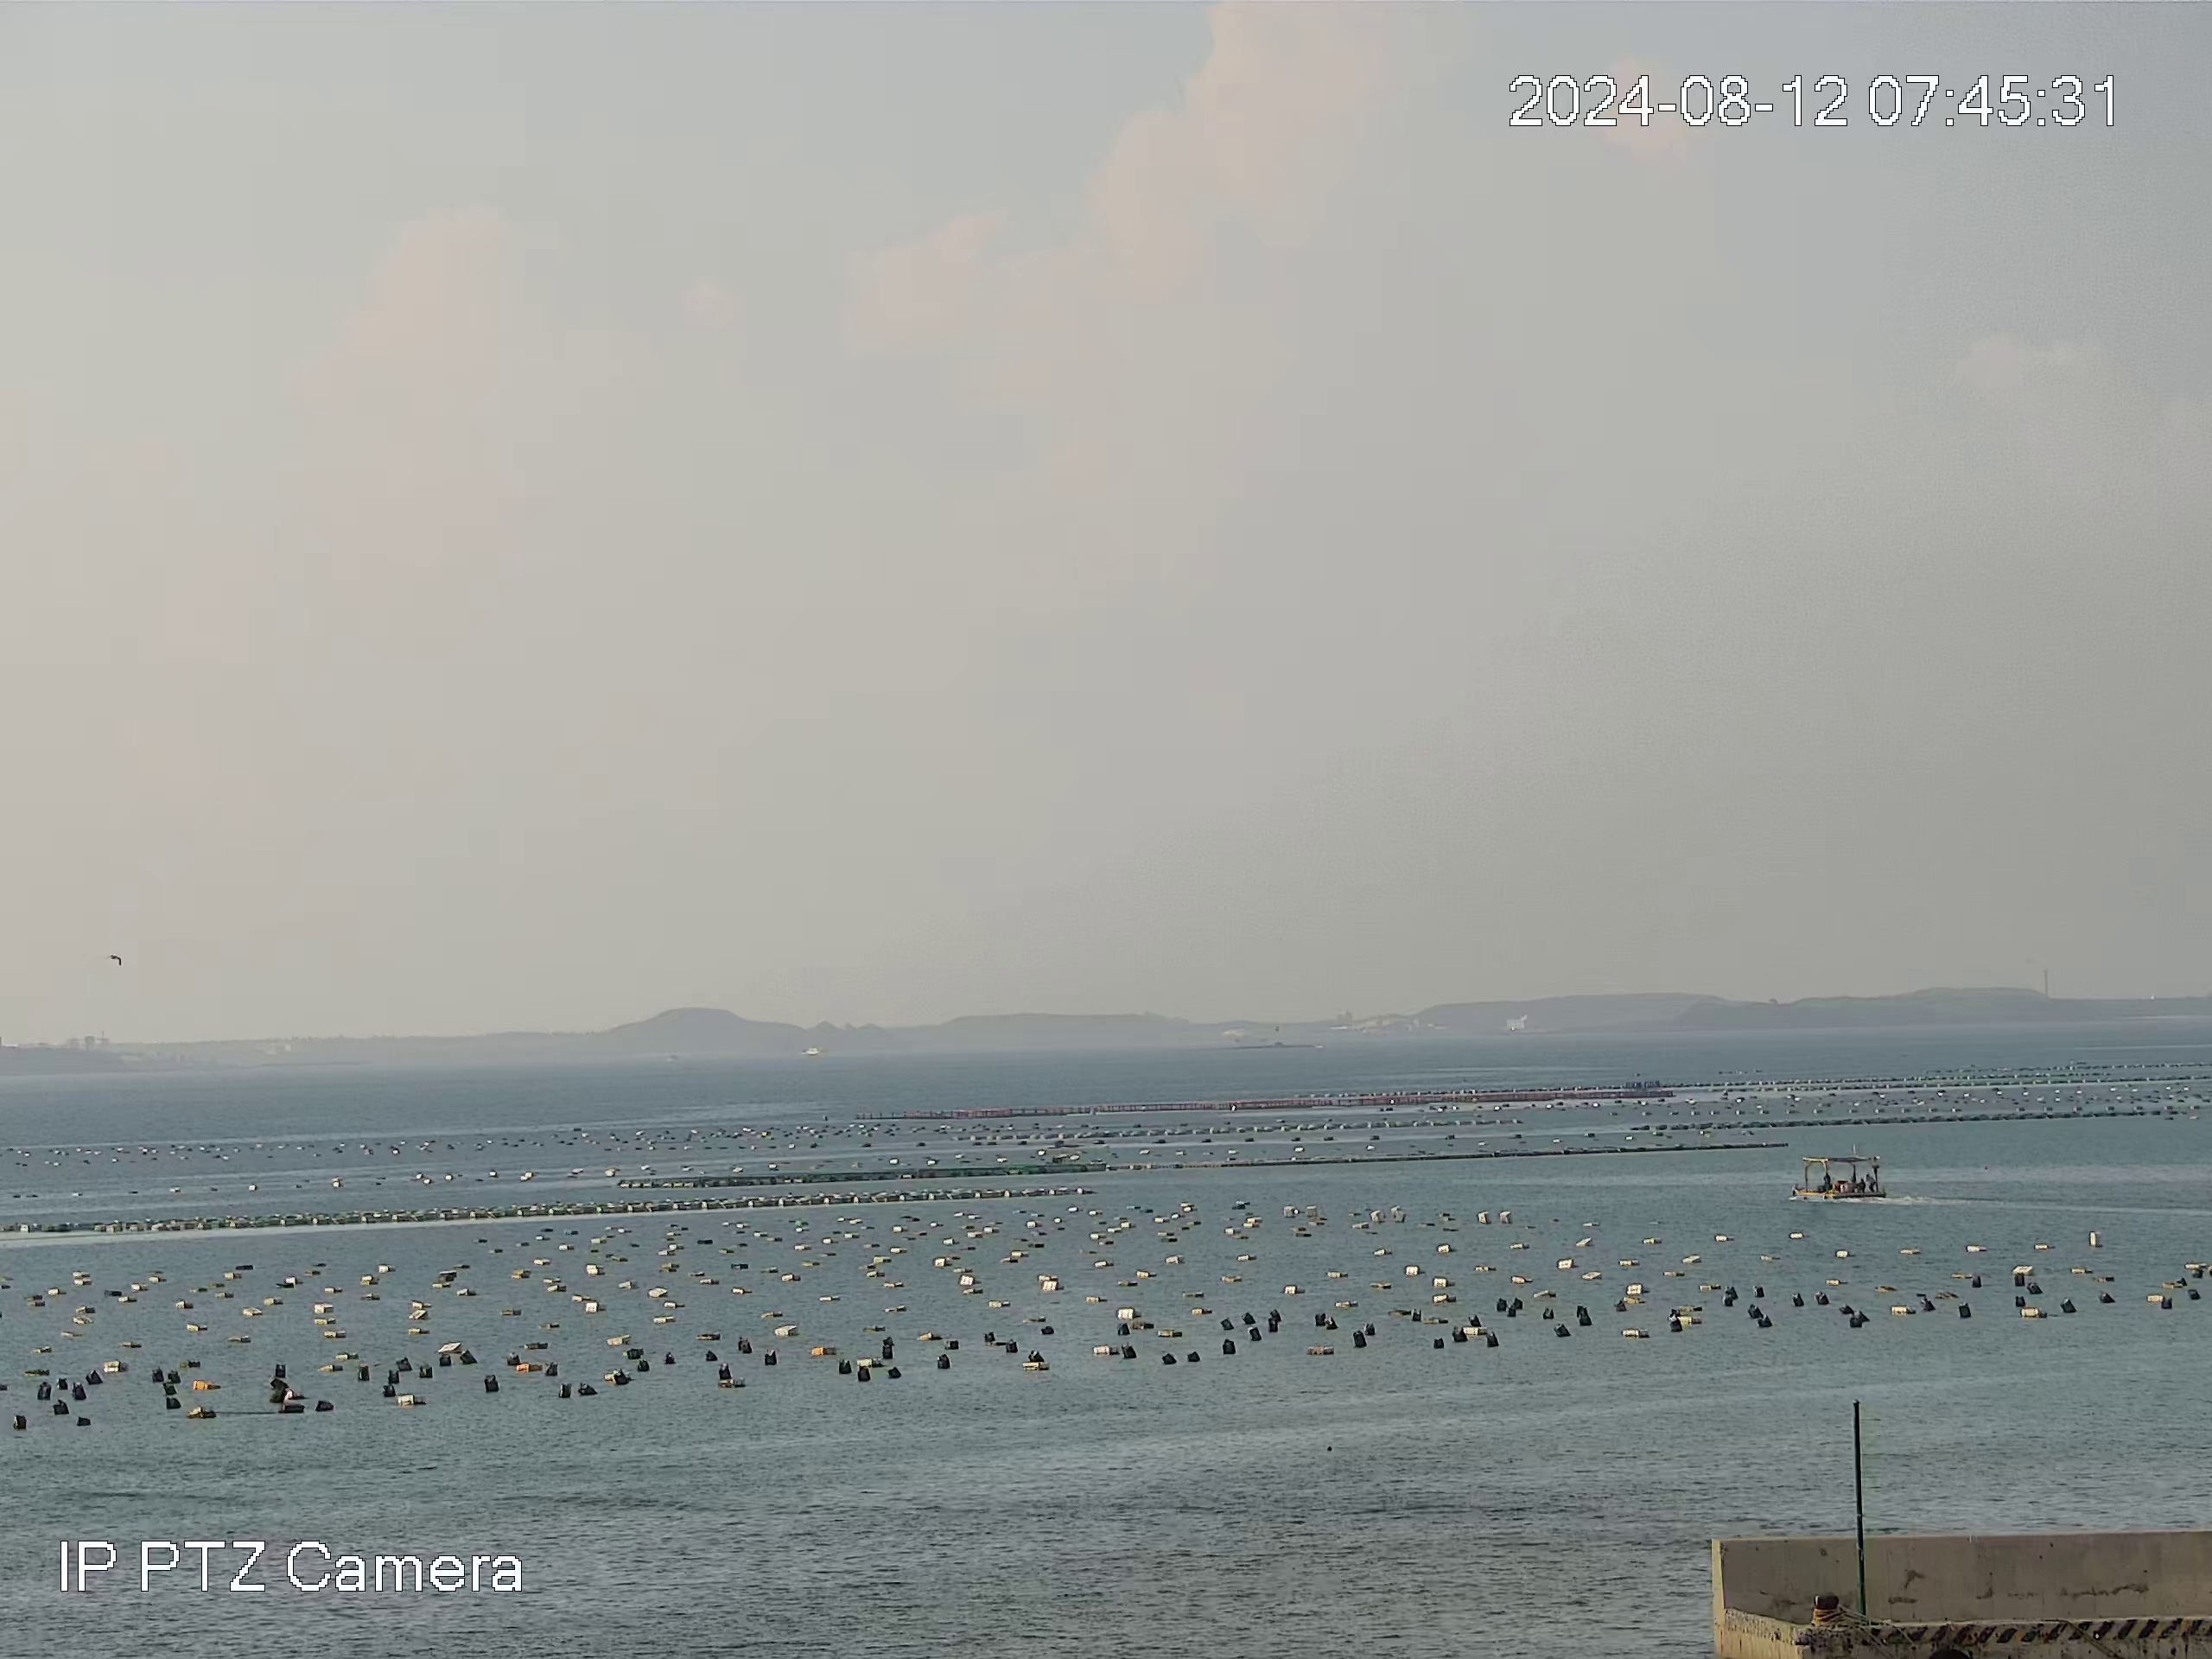boat: (1785, 1150, 1895, 1209)
